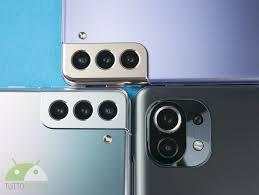Smartphone: (65, 0, 259, 80), (135, 87, 259, 195), (0, 95, 130, 195)
